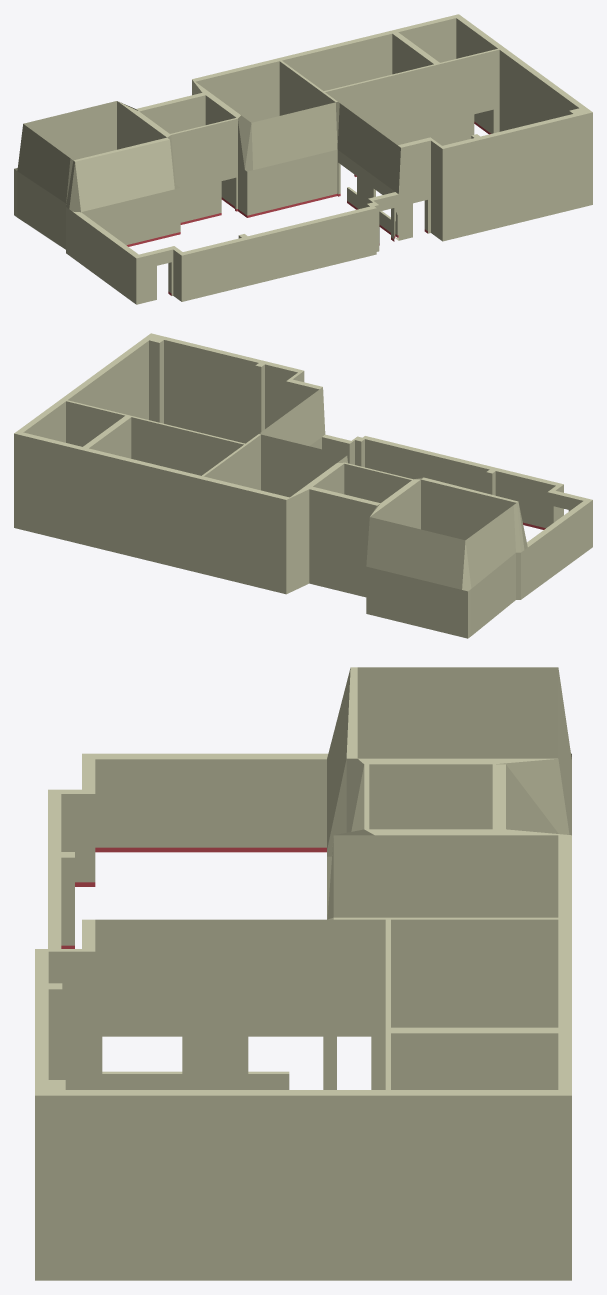
File: Full-Building-WM.fbx
3 renders of one model, top to bottom at view 1: azimuth 30°, elevation 25°; view 2: azimuth 150°, elevation 25°; view 3: azimuth 270°, elevation 25°, orthographic. The views are drawn at different scales.
Parts seen in each view (by area): view 1: Cube; view 2: Cube; view 3: Cube.
Part boxes in pixels (left/top/right/bottom): Cube: left=14, top=14, right=592, bottom=304; Cube: left=14, top=333, right=592, bottom=638; Cube: left=35, top=667, right=571, bottom=1280.
Size of the model in its own units: 1599 by 3061 by 608.
